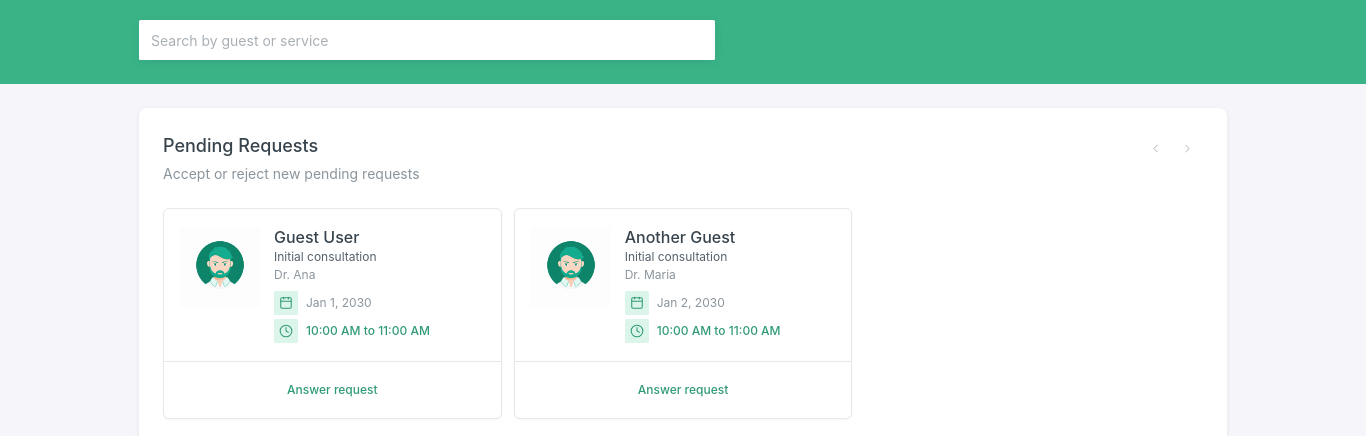
Test case: AppointmentsPage › searches all nutritionists on the server and displays the nutritionist name
This screenshot has width=1366, height=436.
expect the heading "Guest User" is shown: met, box x1=274 y1=227 x2=359 y2=247
expect the text "Dr. Ana" is shown: met, box x1=274 y1=267 x2=315 y2=282
In the field named "Search pending requests": (427, 40) x1=139 y1=20 x2=715 y2=60, type "another"
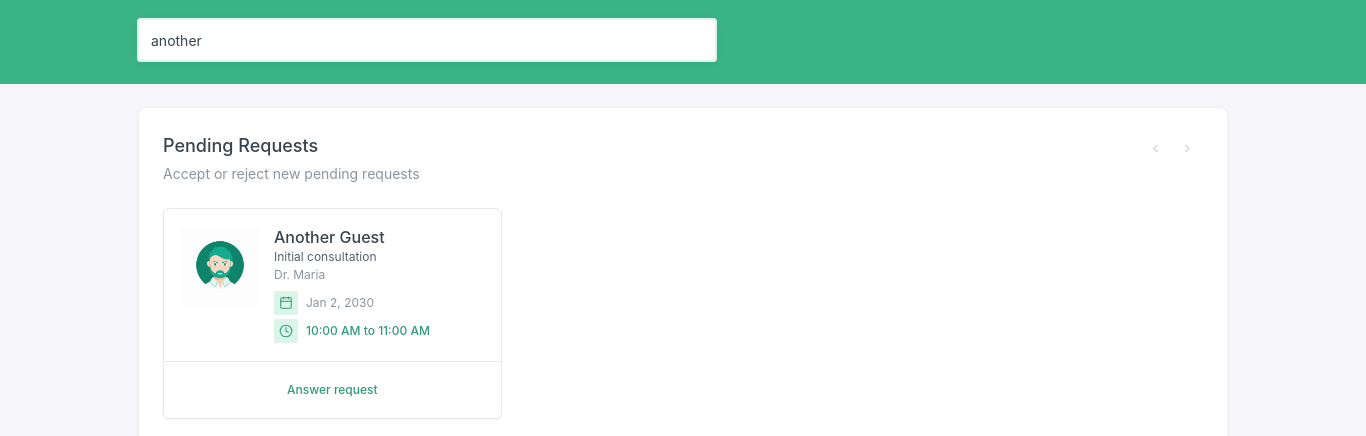
expect the heading "Another Guest" is shown: met, box x1=274 y1=227 x2=385 y2=247
expect the heading "Guest User" is gone: met
